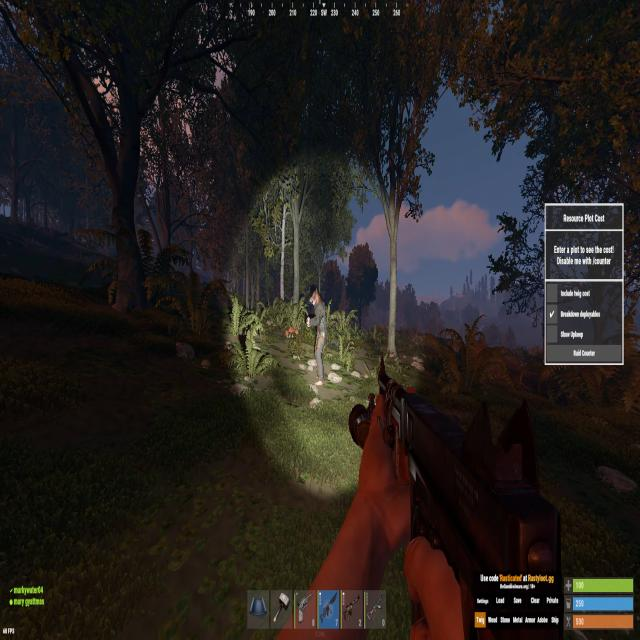Player: (305, 286, 328, 388)
